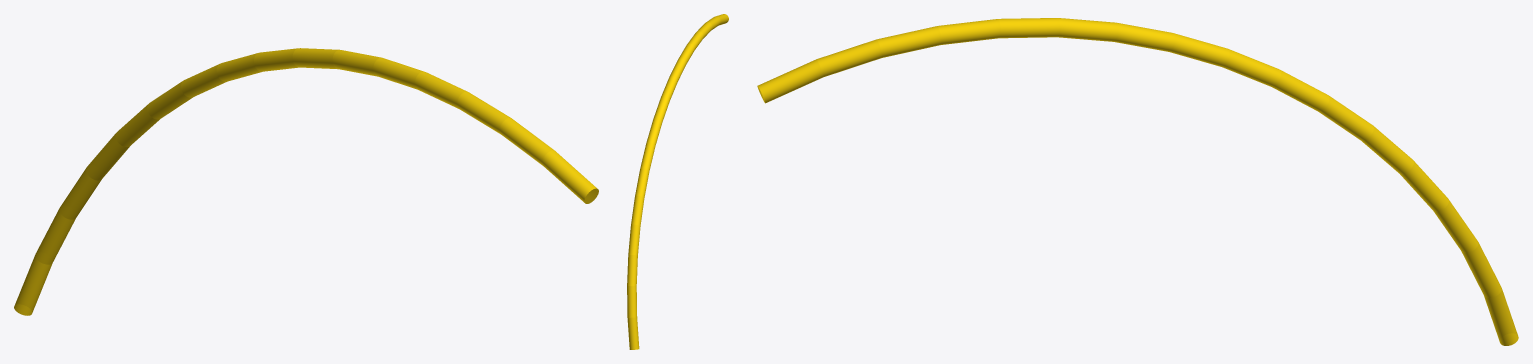
File: Event_421115418_track_79.fbx
3 renders of one model, left to right at view 1: azimuth 30°, elevation 25°; view 2: azimuth 150°, elevation 25°; view 3: azimuth 270°, elevation 25°, orthographic. The views are drawn at different scales.
Visible parts, largest first — view 1: Model; view 2: Model; view 3: Model.
Part boxes in pixels (box(x1,y1,x2,y2)): Model: box(14, 48, 598, 315); Model: box(627, 14, 728, 349); Model: box(757, 18, 1518, 345).
Bounding box in the file's own units: 0.5005 × 0.8911 × 1.57.
